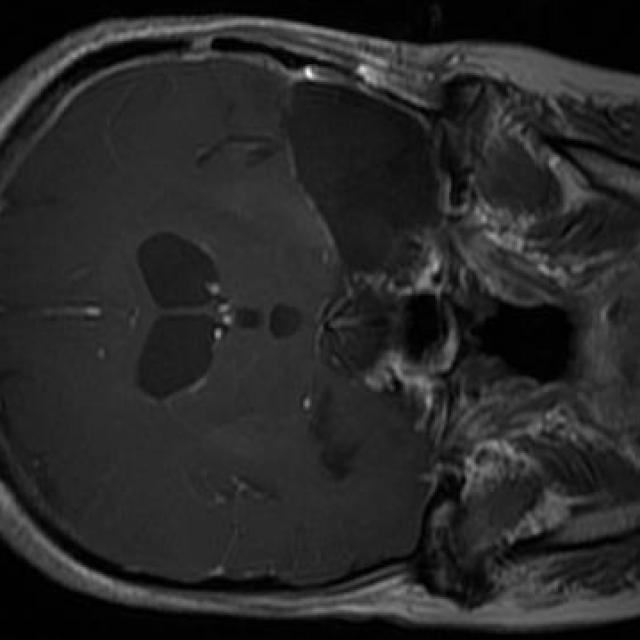glioma: (291, 80, 442, 294)
